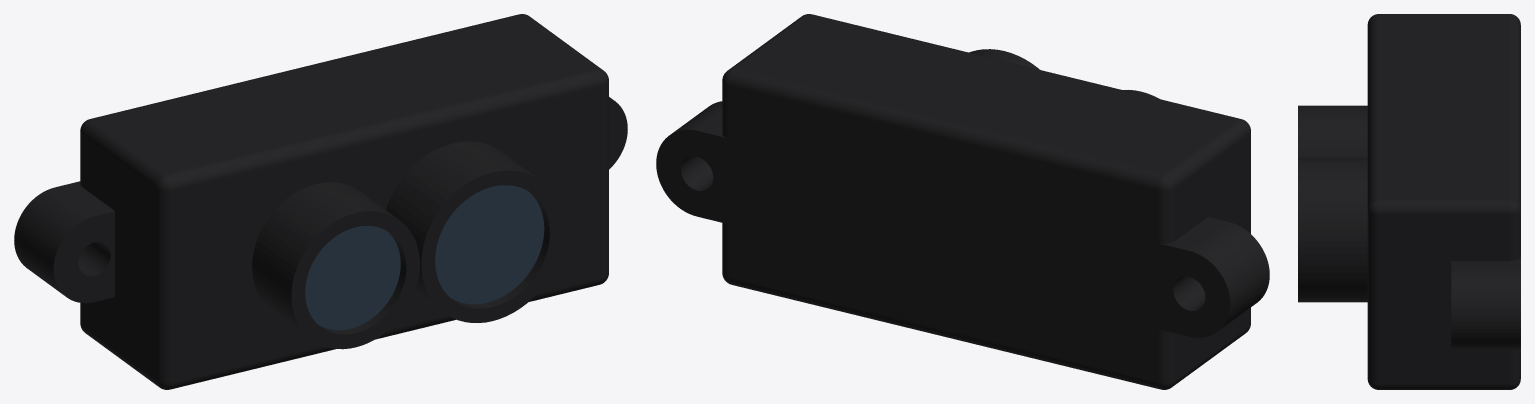
Rendered from benewake-tfmini-s.glb.
3 views of the same model, side by side, from view 1: azimuth 30°, elevation 25°; view 2: azimuth 150°, elevation 25°; view 3: azimuth 270°, elevation 25° (orthographic). The views are drawn at different scales.
Visible parts, largest first — view 1: benewake-tfmini-s; view 2: benewake-tfmini-s; view 3: benewake-tfmini-s.
Part boxes in pixels (left/top/right/bottom): benewake-tfmini-s: left=14, top=14, right=627, bottom=389; benewake-tfmini-s: left=656, top=14, right=1269, bottom=389; benewake-tfmini-s: left=1298, top=14, right=1520, bottom=389.
Size of the model in its own units: 42 by 15 by 16.
